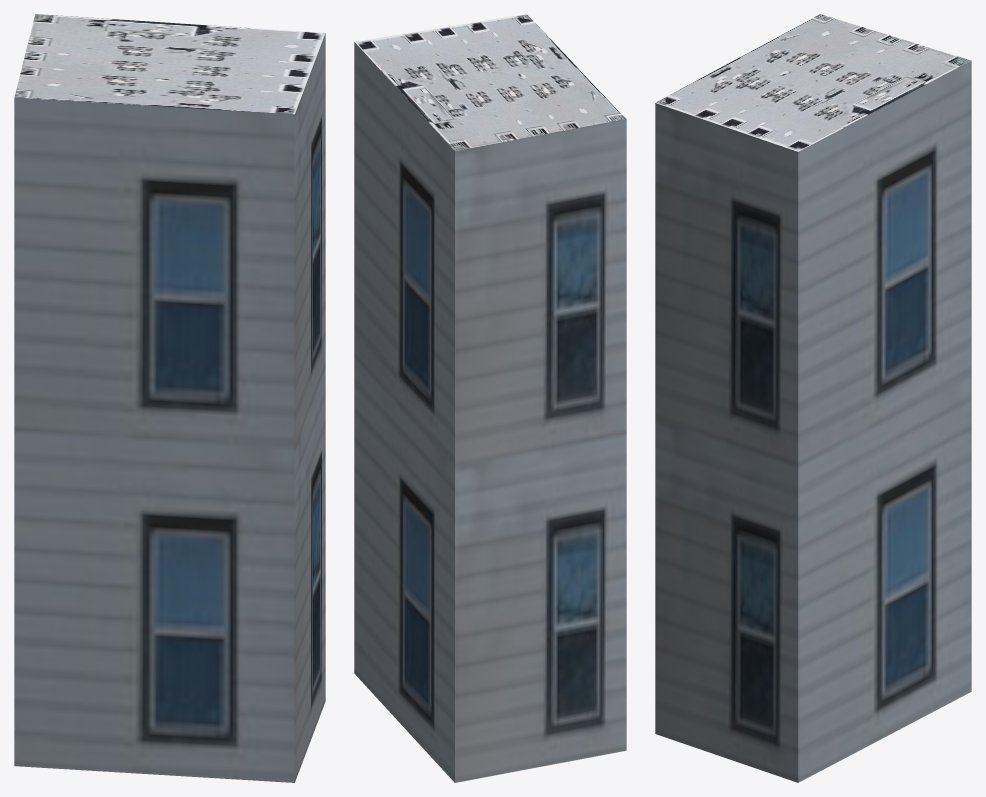
Rendered from ResTex__3931.fbx.
3 views of the same model, side by side, from view 1: azimuth 30°, elevation 25°; view 2: azimuth 150°, elevation 25°; view 3: azimuth 270°, elevation 25° (orthographic). The views are drawn at different scales.
Parts seen in each view (by area): view 1: CityEngineMaterial_18_m, CityEngineMaterial_m; view 2: CityEngineMaterial_18_m, CityEngineMaterial_m; view 3: CityEngineMaterial_18_m, CityEngineMaterial_m.
Part boxes in pixels (<box>): CityEngineMaterial_18_m: <box>14,33,325,782</box>; CityEngineMaterial_m: <box>14,14,325,114</box>; CityEngineMaterial_18_m: <box>354,42,626,782</box>; CityEngineMaterial_m: <box>354,14,626,150</box>; CityEngineMaterial_18_m: <box>655,61,971,782</box>; CityEngineMaterial_m: <box>655,14,971,151</box>.
Size of the model in its own units: 2.81 by 6 by 2.73.
Materials: 2 (2 with a texture image).
